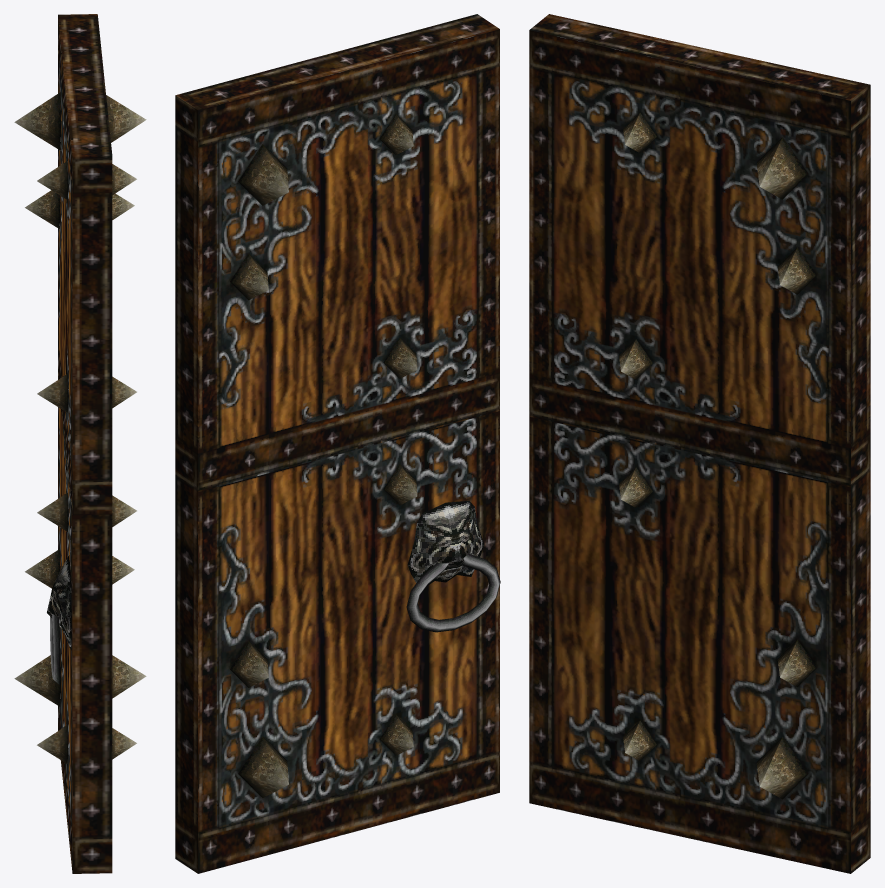
Rendered from ANIMATEDINSTANCES_TROLL_DOOR_02__AI.fbx.
The picture shows the model from 3 angles, left to right: view 1: azimuth 30°, elevation 25°; view 2: azimuth 150°, elevation 25°; view 3: azimuth 270°, elevation 25°; orthographic projection. The views are drawn at different scales.
Parts seen in each view (by area): view 1: ANIMATEDINSTANCES_TROLL_DOOR_02__AI; view 2: ANIMATEDINSTANCES_TROLL_DOOR_02__AI; view 3: ANIMATEDINSTANCES_TROLL_DOOR_02__AI.
Part boxes in pixels (box(x1,y1,x2,y2)): ANIMATEDINSTANCES_TROLL_DOOR_02__AI: box(14, 14, 146, 873); ANIMATEDINSTANCES_TROLL_DOOR_02__AI: box(175, 14, 500, 873); ANIMATEDINSTANCES_TROLL_DOOR_02__AI: box(529, 14, 870, 873).
Bounding box in the file's own units: 10746 × 40800 × 16331.
Materials: 4 (4 with a texture image).
